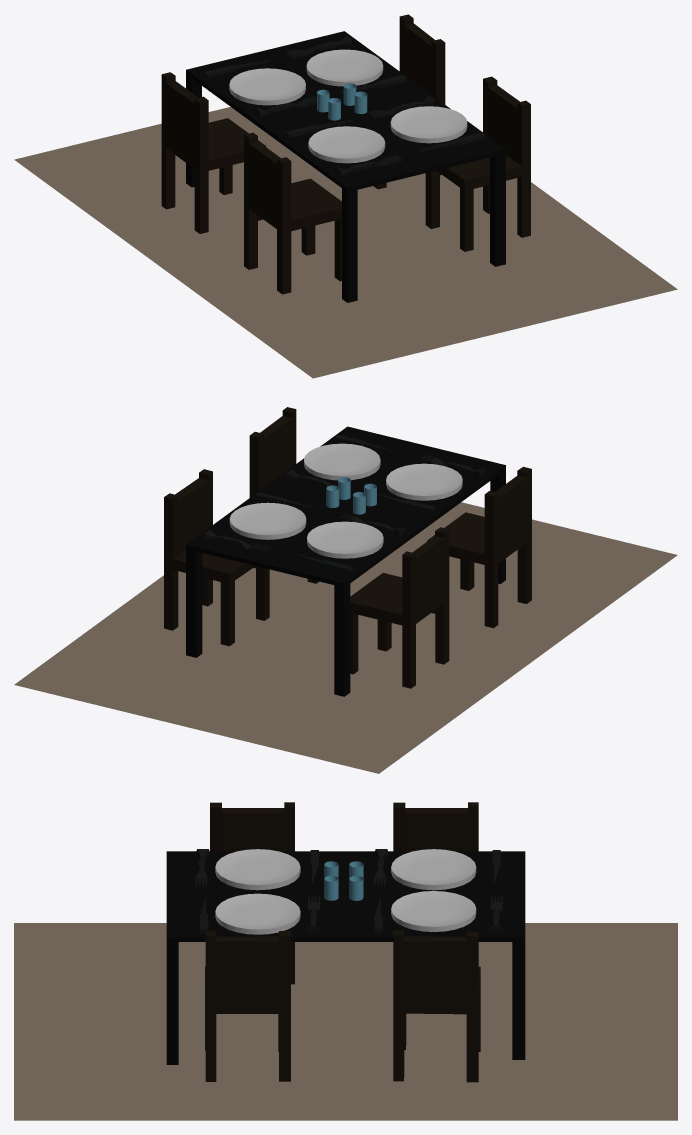
File: table-a-diner.fbx
The picture shows the model from 3 angles, top to bottom: view 1: azimuth 30°, elevation 25°; view 2: azimuth 150°, elevation 25°; view 3: azimuth 270°, elevation 25°; orthographic projection. The views are drawn at different scales.
Parts seen in each view (by area): view 1: Plane, TABLE, CHAISE, CHAISE1, CHAISE3, CHAISE2, Cylinder2, Cylinder, Cylinder3, Cylinder4; view 2: Plane, TABLE, CHAISE1, CHAISE, CHAISE2, CHAISE3, Cylinder4, Cylinder3, Cylinder2, Cylinder; view 3: Plane, TABLE, CHAISE2, CHAISE3, CHAISE, CHAISE1, Cylinder2, Cylinder3, Cylinder4, Cylinder.
Part boxes in pixels (bbox=[...]): Plane: bbox=[14, 107, 677, 378]; TABLE: bbox=[186, 31, 505, 302]; CHAISE: bbox=[244, 132, 341, 294]; CHAISE1: bbox=[161, 72, 266, 233]; CHAISE3: bbox=[425, 76, 530, 251]; CHAISE2: bbox=[374, 14, 445, 189]; Cylinder2: bbox=[308, 126, 385, 163]; Cylinder: bbox=[390, 106, 467, 143]; Cylinder3: bbox=[229, 68, 305, 105]; Cylinder4: bbox=[306, 49, 383, 86]; Plane: bbox=[14, 502, 677, 773]; TABLE: bbox=[186, 426, 505, 696]; CHAISE1: bbox=[350, 527, 449, 688]; CHAISE: bbox=[427, 466, 531, 628]; CHAISE2: bbox=[164, 469, 269, 646]; CHAISE3: bbox=[249, 407, 318, 583]; Cylinder4: bbox=[229, 502, 306, 539]; Cylinder3: bbox=[307, 521, 383, 558]; Cylinder2: bbox=[386, 463, 462, 500]; Cylinder: bbox=[304, 443, 380, 480]; Plane: bbox=[14, 923, 677, 1120]; TABLE: bbox=[166, 851, 525, 1064]; CHAISE2: bbox=[393, 930, 480, 1082]; CHAISE3: bbox=[205, 930, 290, 1081]; CHAISE: bbox=[210, 802, 294, 984]; CHAISE1: bbox=[393, 802, 478, 851]; Cylinder2: bbox=[215, 849, 300, 890]; Cylinder3: bbox=[391, 849, 476, 890]; Cylinder4: bbox=[391, 891, 476, 931]; Cylinder: bbox=[215, 893, 300, 934].
Size of the model in its own units: 5.49 by 1.98 by 7.79.
